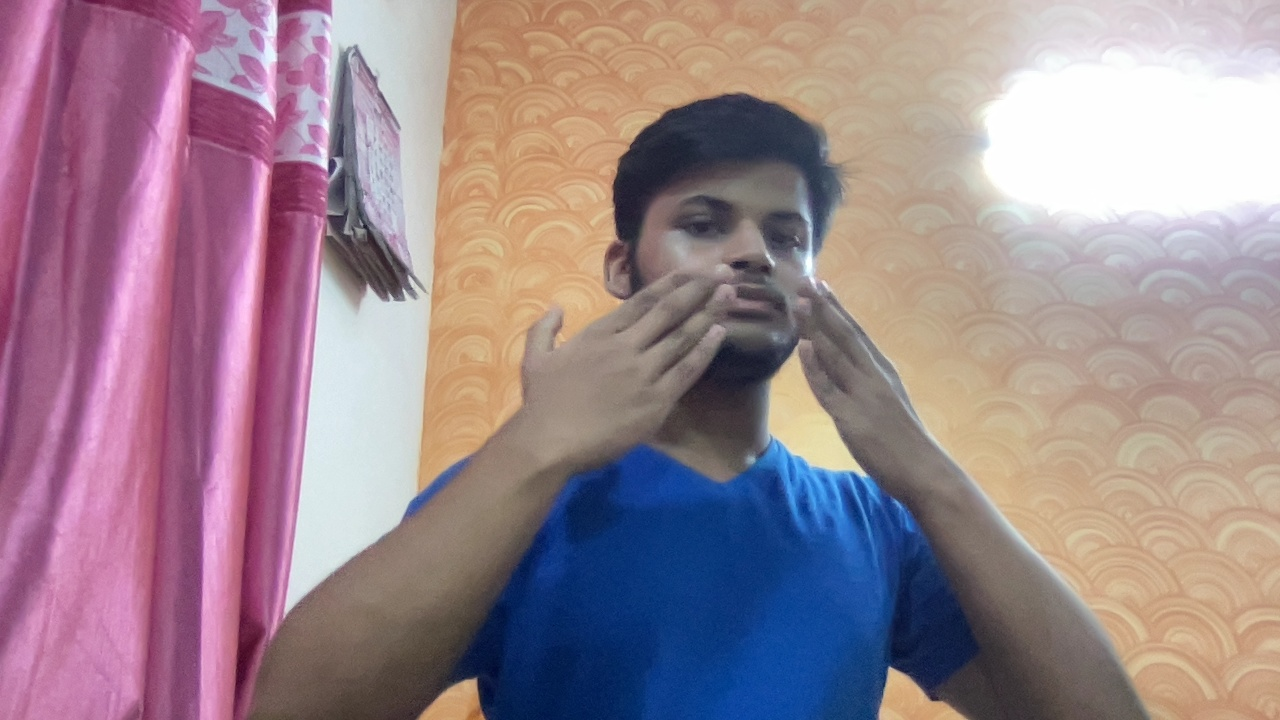thankyou: (472, 223, 1016, 521)
